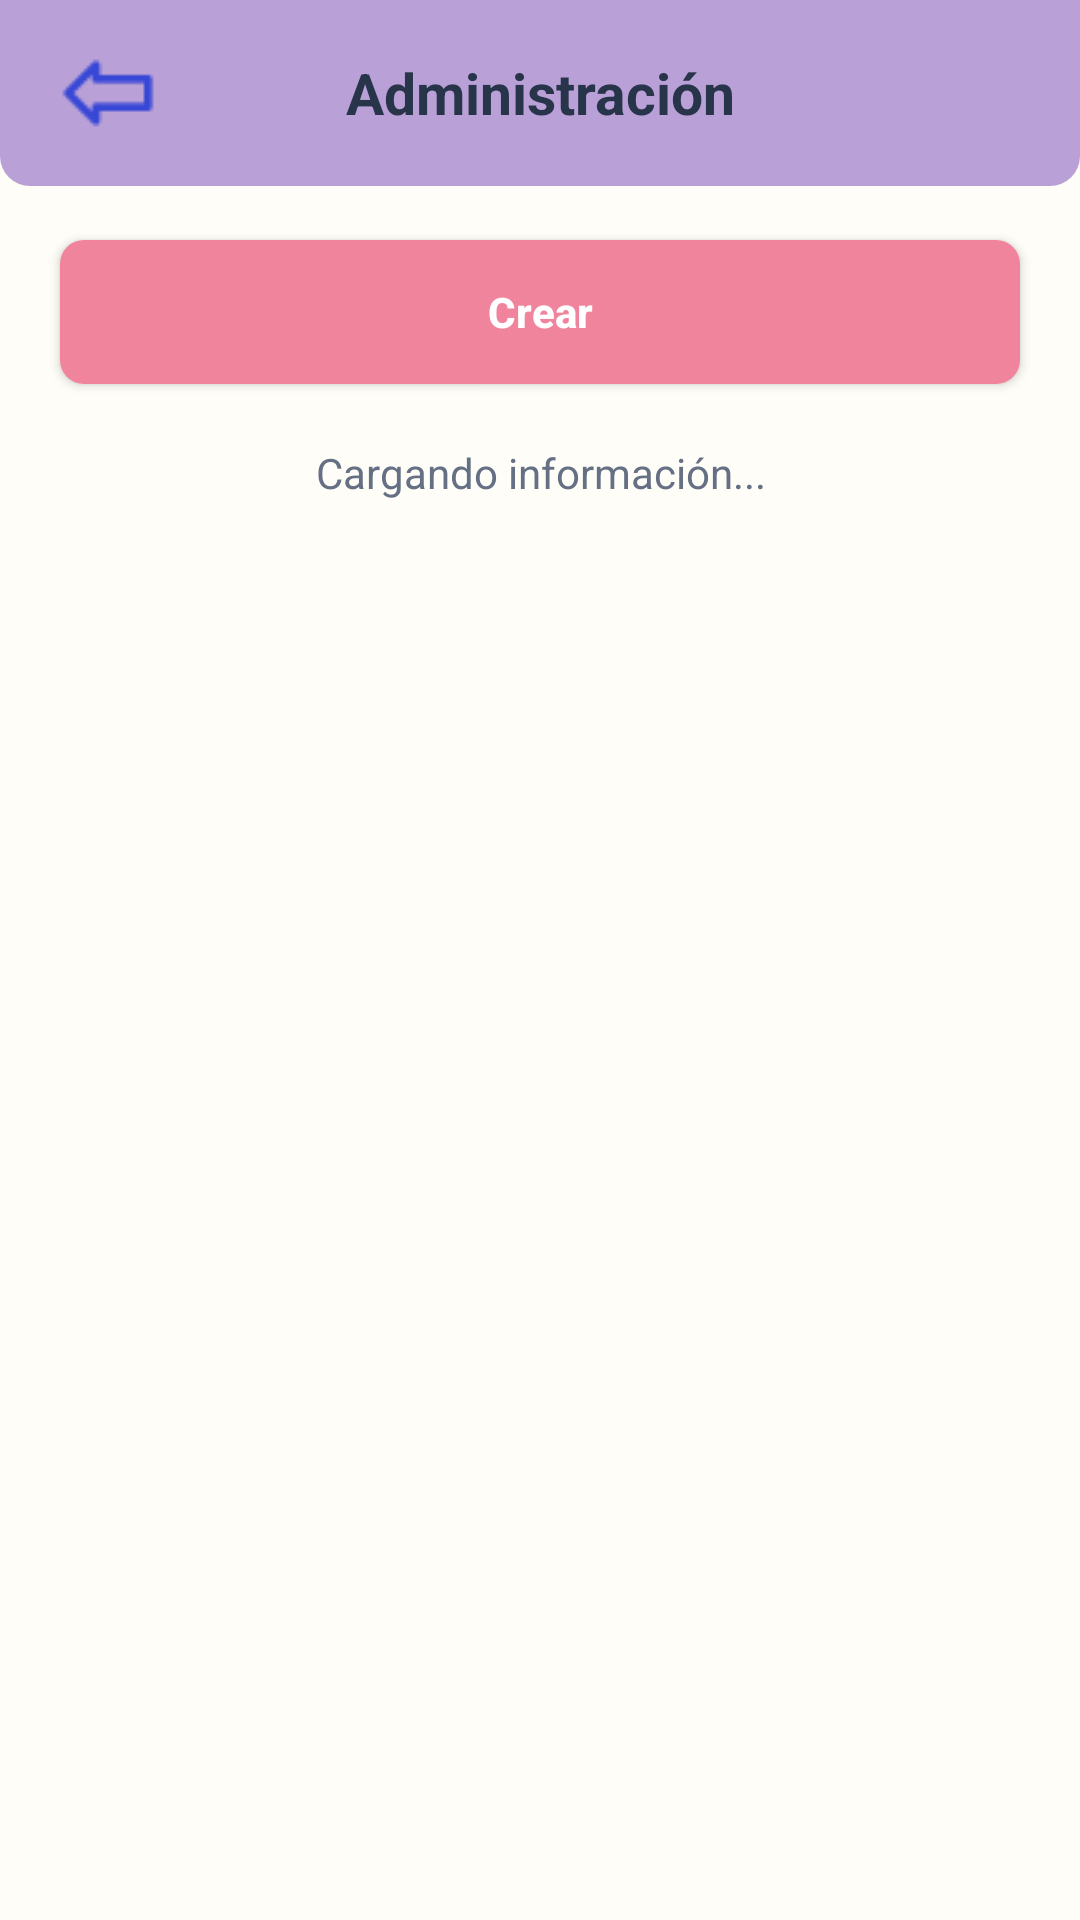

Named icons in this screenshot (1080px×1920px) and their bounding boxes, detection(x1, y1, x2, y2):
Volver: detection(63, 60, 154, 126)
